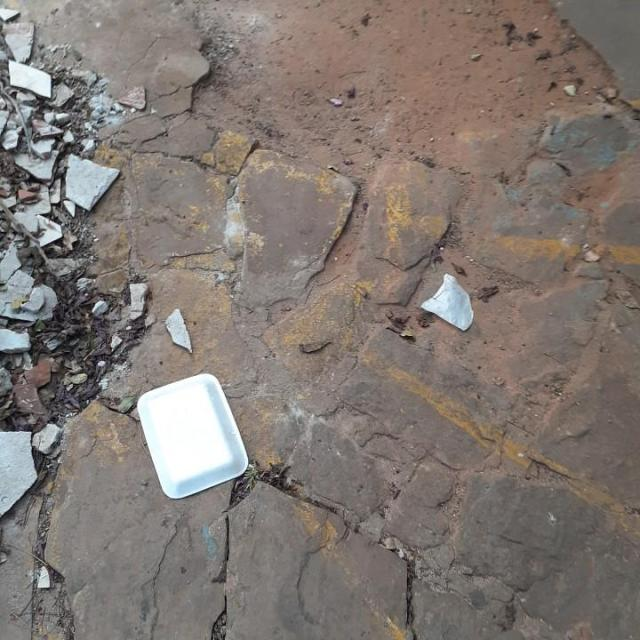litter: (137, 372, 249, 500)
